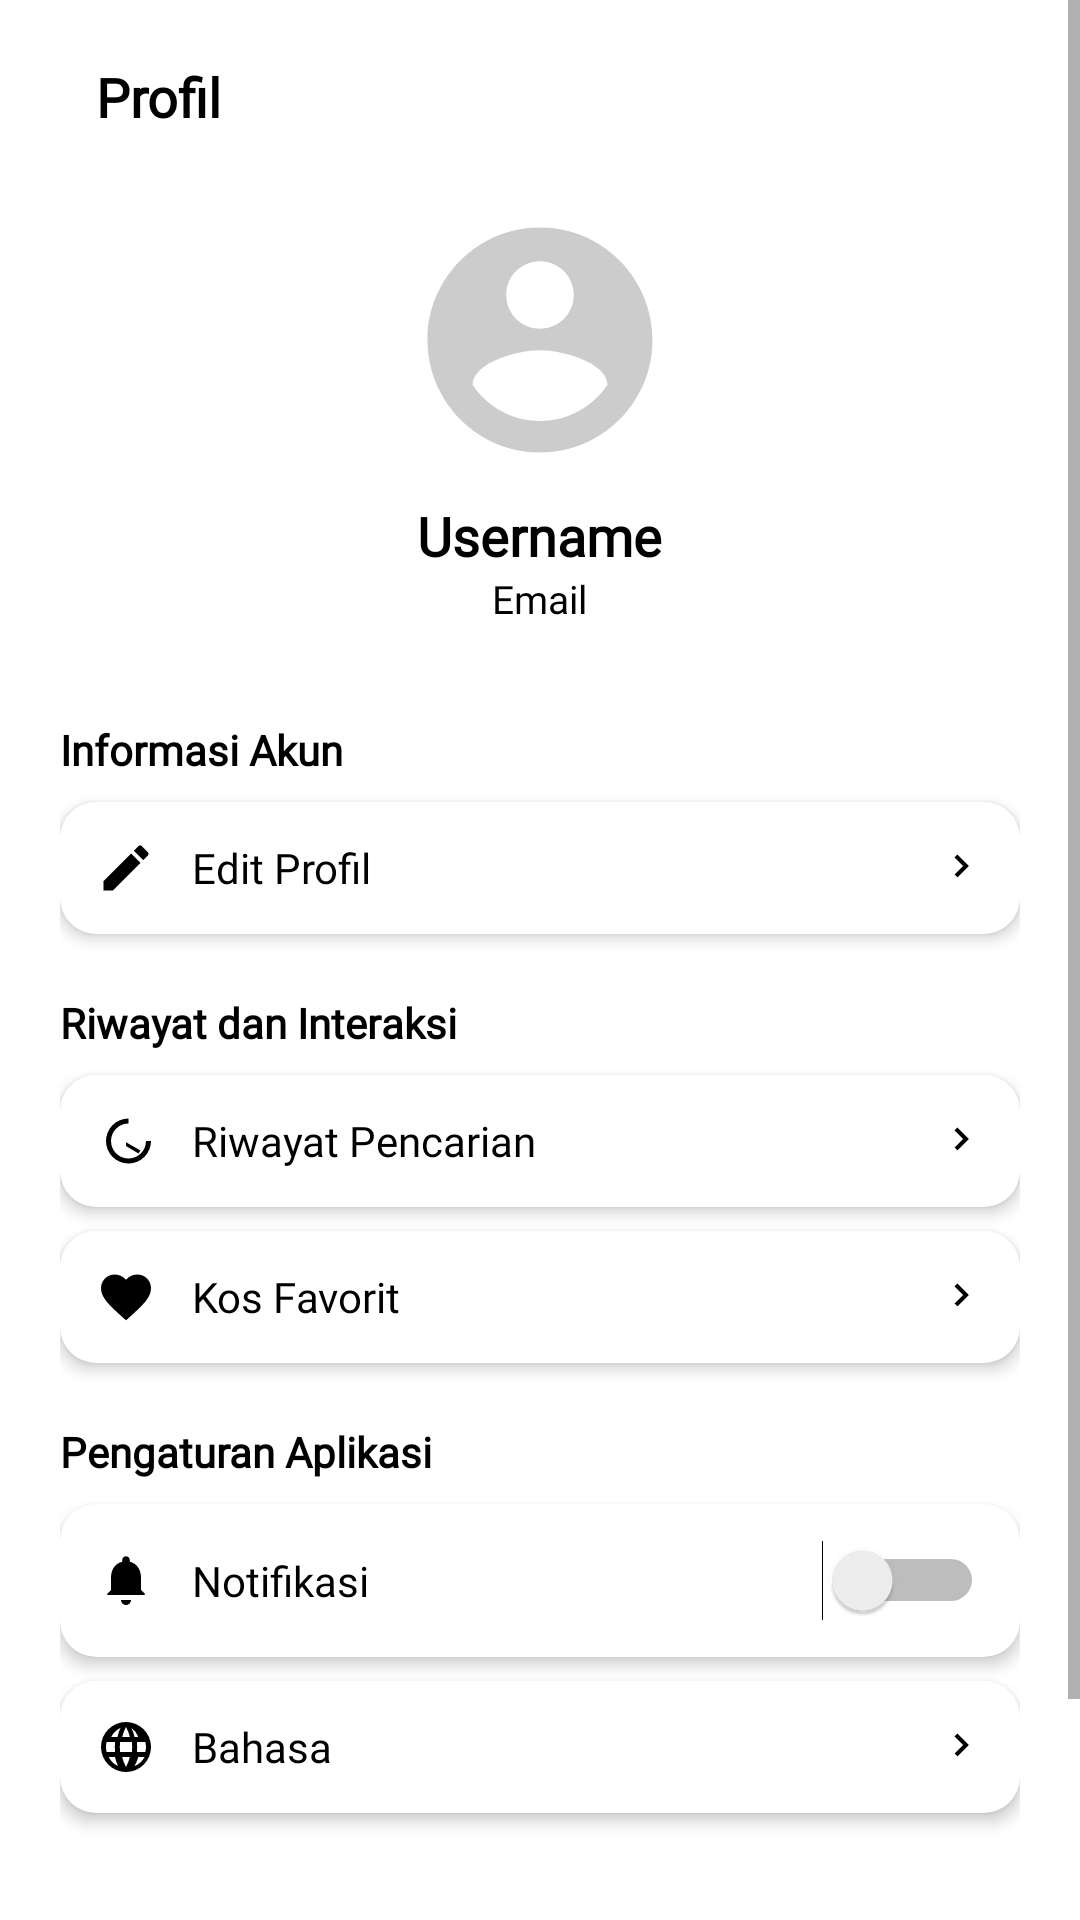

Point at icon controls on the screen. Image size 1080x1920, points as (x=x, y=y).
arrow right: (x=961, y=866), (x=961, y=1139), (x=961, y=1295), (x=961, y=1745)
heart: (x=126, y=1297)
history: (x=128, y=1141)
language: (x=126, y=1747)
notification: (x=126, y=1580)
profile: (x=540, y=340)
